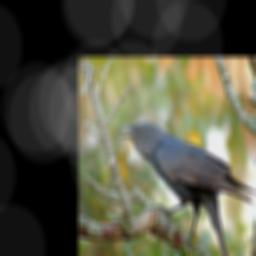Crow: (119, 121, 256, 256)
